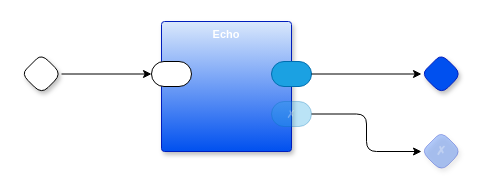
This 485x196 diagram has some shape labels left out. Here are the shapes that lost their labels. From the top down, the centre of each, then its label:
point (171, 73): Ein
point (442, 75): output
